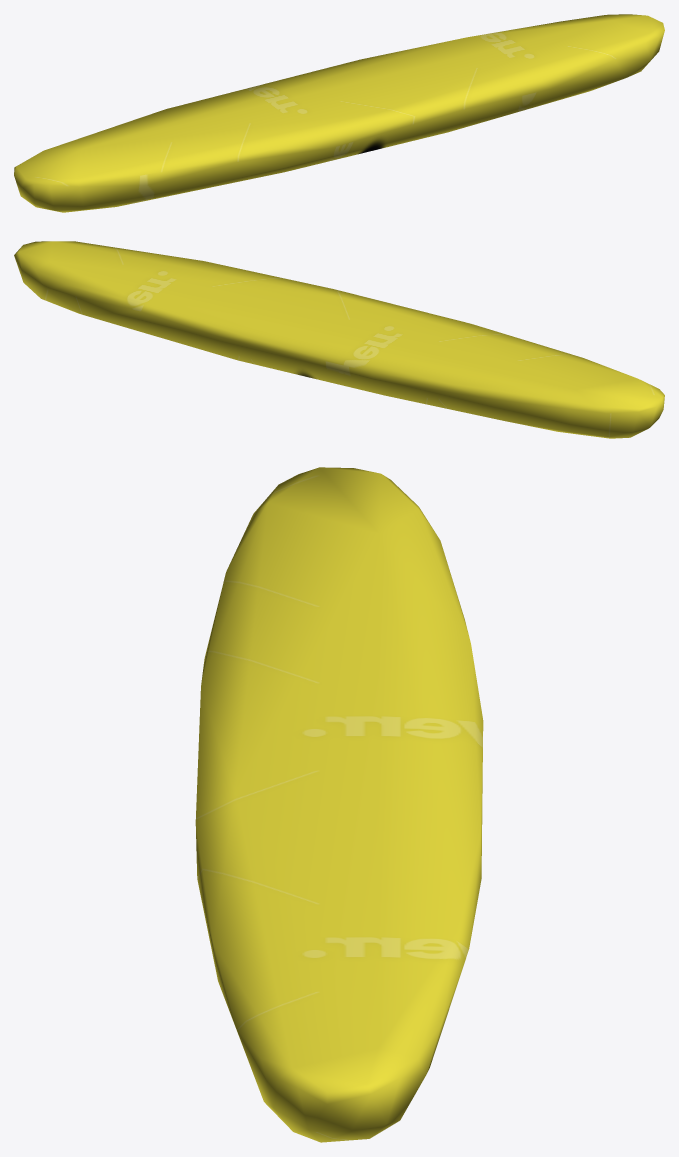
Rendered from yut-regular.glb.
3 views of the same model, one above another, from view 1: azimuth 30°, elevation 25°; view 2: azimuth 150°, elevation 25°; view 3: azimuth 270°, elevation 25° (orthographic). The views are drawn at different scales.
Visible parts, largest first — view 1: Cube.001; view 2: Cube.001; view 3: Cube.001.
Part boxes in pixels (x1=…): Cube.001: x1=14, y1=14, x2=664, y2=212; Cube.001: x1=14, y1=241, x2=664, y2=438; Cube.001: x1=195, y1=467, x2=483, y2=1142.
Size of the model in its own units: 12.55 by 0.9039 by 2.44.
1 material, 1 textured.
